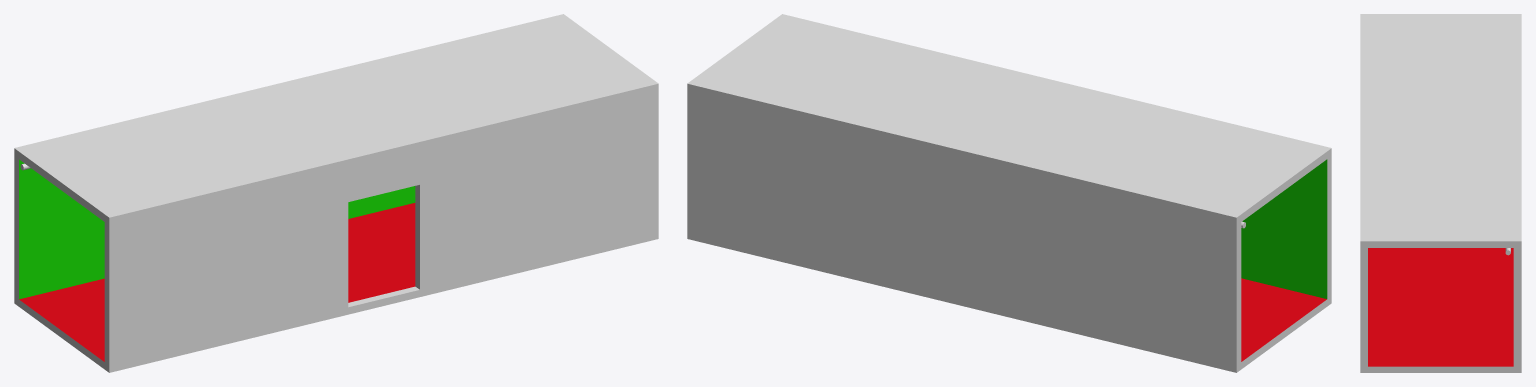
The model's file is HallDoorLeft.fbx.
The picture shows the model from 3 angles, left to right: view 1: azimuth 30°, elevation 25°; view 2: azimuth 150°, elevation 25°; view 3: azimuth 270°, elevation 25°; orthographic projection. The views are drawn at different scales.
Visible parts, largest first — view 1: Hall.001; view 2: Hall.001; view 3: Hall.001.
Boxes of the visible parts, bbox=[...] form: Hall.001: bbox=[14, 14, 658, 372]; Hall.001: bbox=[687, 14, 1331, 372]; Hall.001: bbox=[1360, 14, 1521, 372].
Size of the model in its own units: 2000 by 540 by 600.
